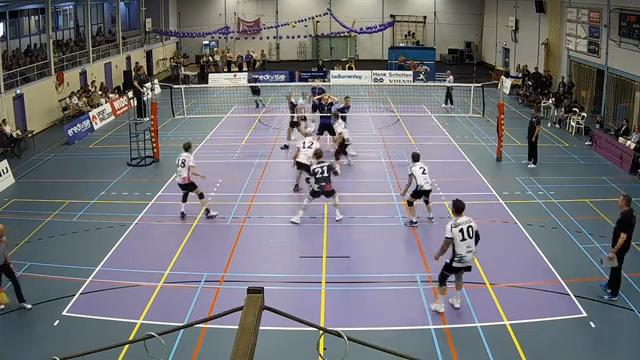ricezione: (285, 147, 347, 221)
